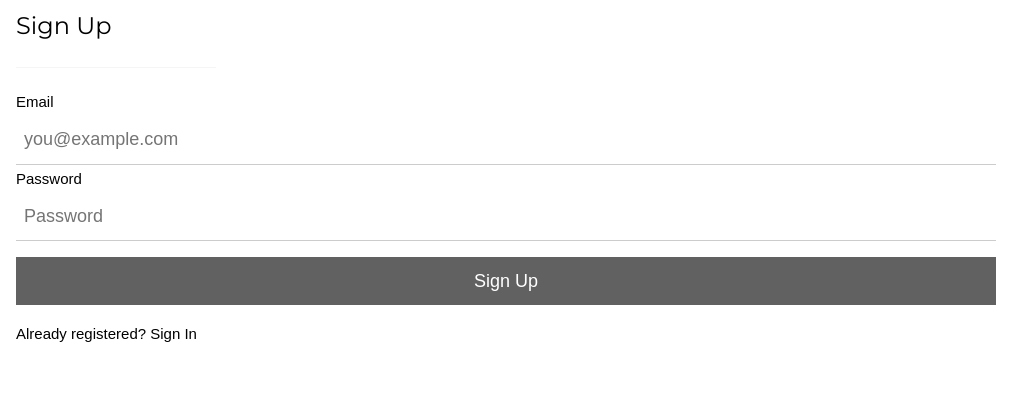
it: Signup › should show generic error when signUp throws an exception
Step 1. Type "test@example.com" into the field labelled "Email" → [506, 140], box left=16, top=115, right=996, bottom=165
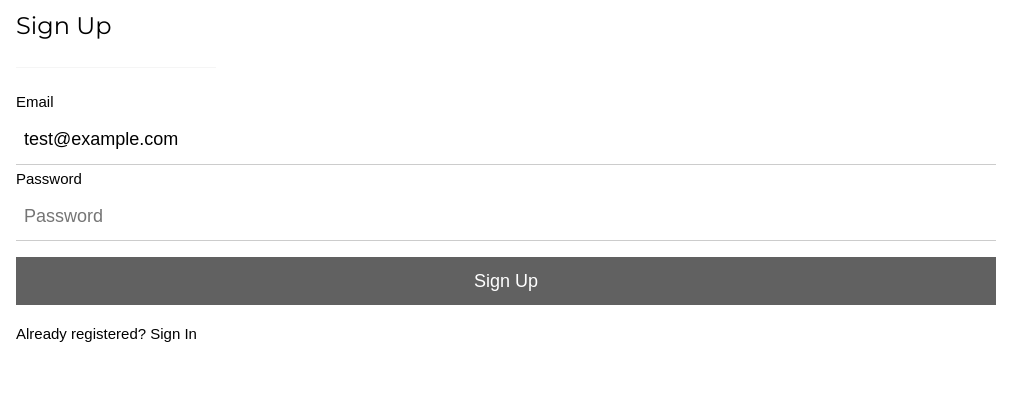
Step 2. Type "password123" into the password field labelled "Password" → [506, 216], box left=16, top=192, right=996, bottom=241
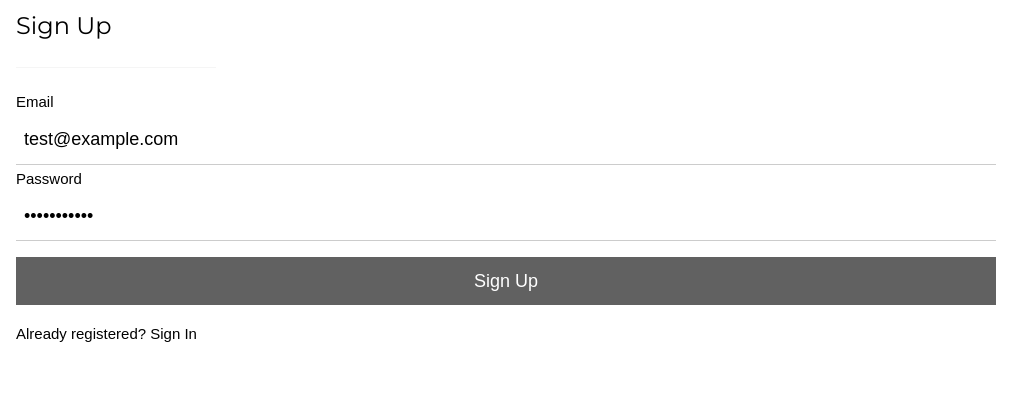
Step 3. Click the button "Sign Up" → [506, 281], box left=16, top=257, right=996, bottom=305
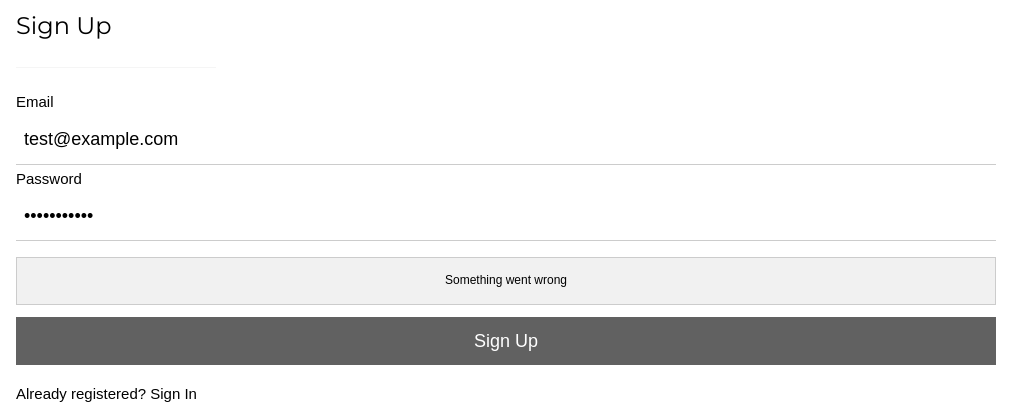
Expected: the message reads "Something went wrong", left=445, top=273, right=567, bottom=287
